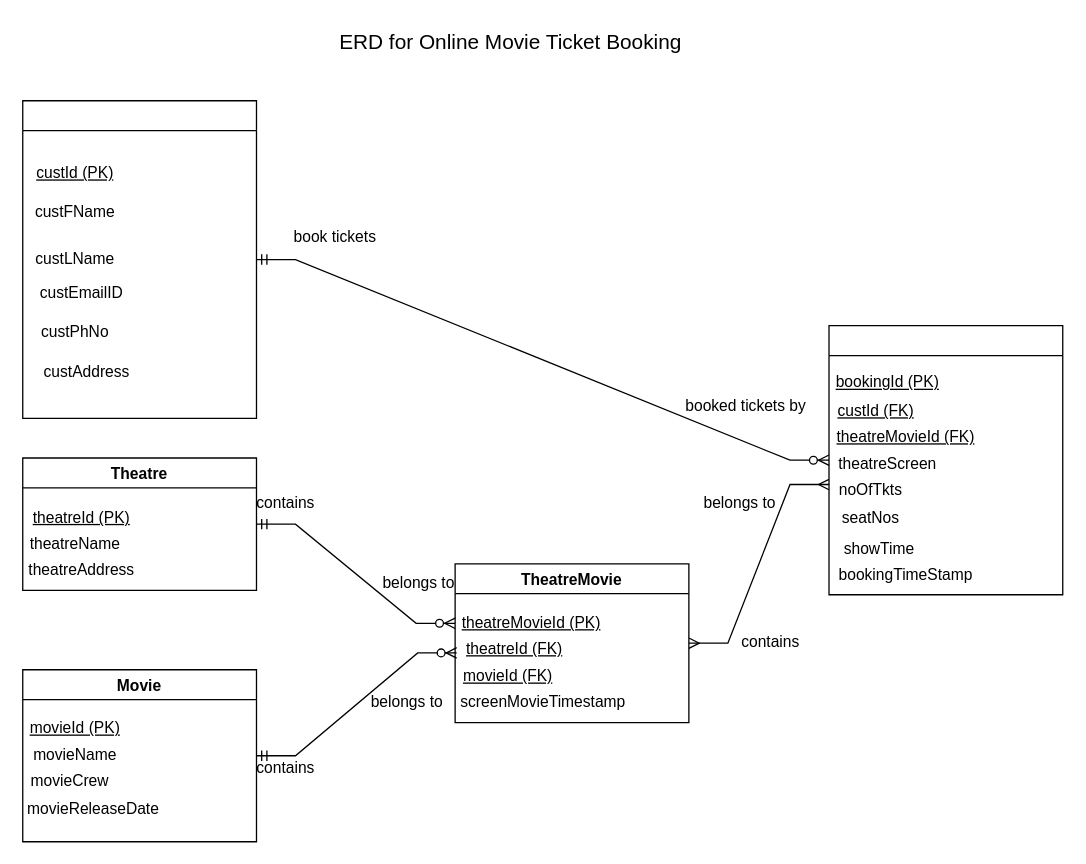
The diagram is 1086 pixels wide and 864 high, and some of its shapes have lost their labels. The box of each missing label's shape, as (x1, y1, x2, y2) in pixels:
Customer: (21, 99, 256, 418)
Ticket: (828, 324, 1063, 595)
